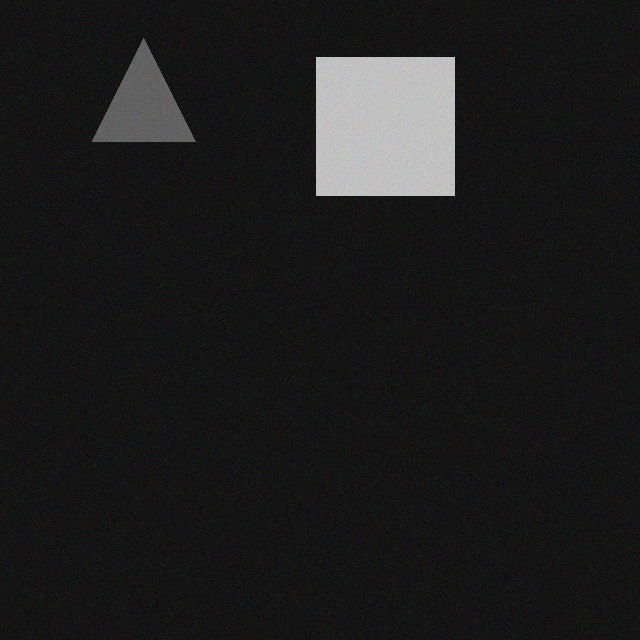square: (329, 54, 467, 192)
triangle: (105, 35, 208, 138)
